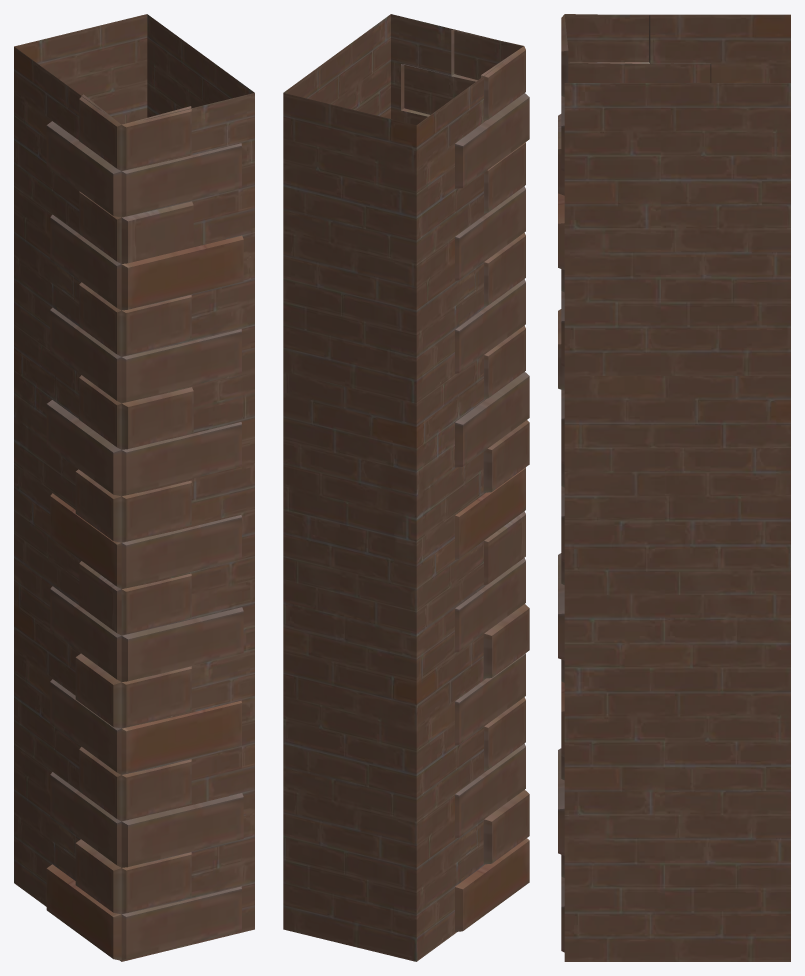
File: Brick_Column_RedBricks.glb
The picture shows the model from 3 angles, left to right: view 1: azimuth 30°, elevation 25°; view 2: azimuth 150°, elevation 25°; view 3: azimuth 270°, elevation 25°; orthographic projection. The views are drawn at different scales.
Visible parts, largest first — view 1: Brick_Column_RedBricks; view 2: Brick_Column_RedBricks; view 3: Brick_Column_RedBricks.
Boxes of the visible parts, x1=… form: Brick_Column_RedBricks: x1=14, y1=14, x2=254, y2=961; Brick_Column_RedBricks: x1=283, y1=14, x2=529, y2=961; Brick_Column_RedBricks: x1=558, y1=14, x2=790, y2=961.
Size of the model in its own units: 0.5257 by 3 by 0.7202.
1 material, 1 textured.
